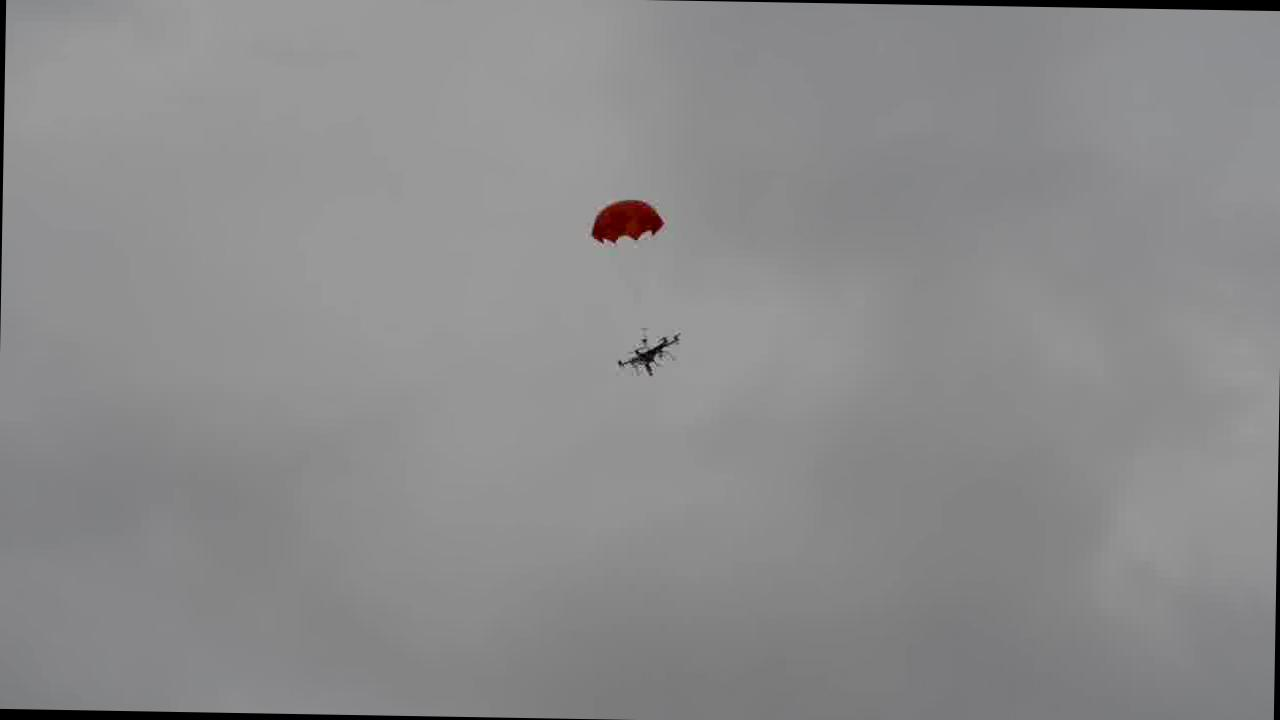drone: (612, 326, 684, 378)
